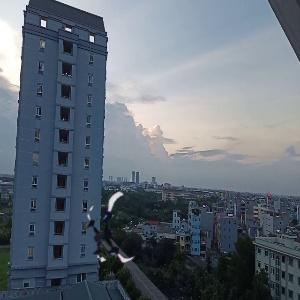drone: (76, 200, 147, 271)
